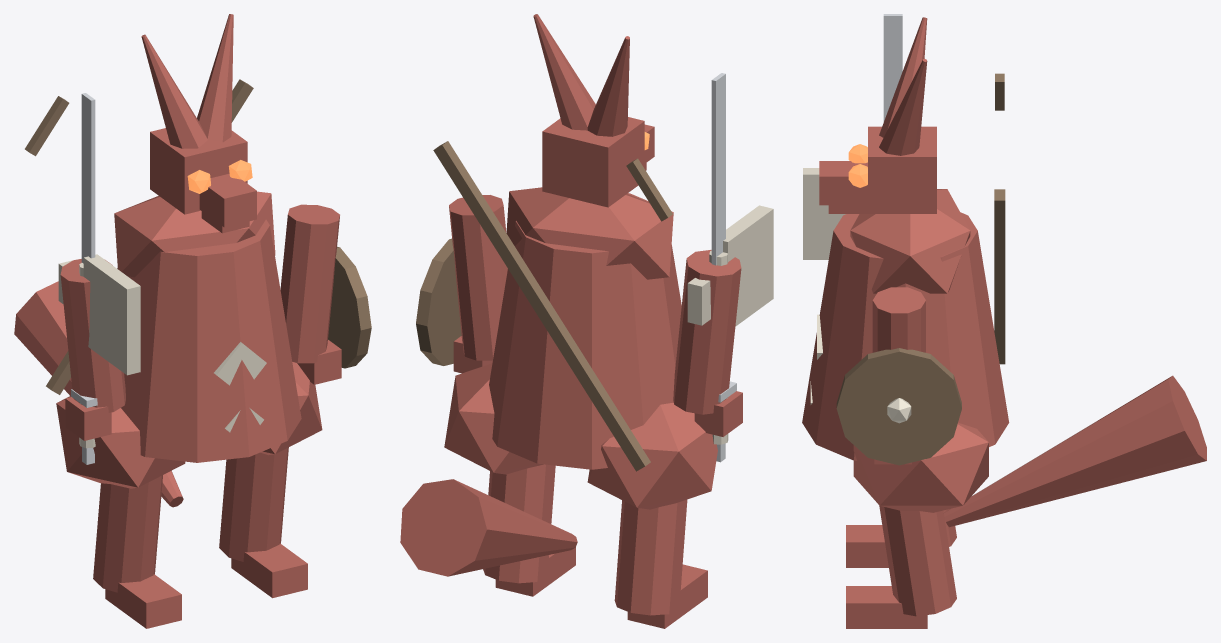
Rendered from boss_kobold.glb.
The picture shows the model from 3 angles, left to right: view 1: azimuth 30°, elevation 25°; view 2: azimuth 150°, elevation 25°; view 3: azimuth 270°, elevation 25°; orthographic projection. The views are drawn at different scales.
Parts seen in each view (by area): view 1: Body, Head, LegR, LegL, ArmL, ArmR, WeaponAxe, Tail, Buckler, WeaponNodachi, NodachiBack; view 2: Body, Head, Tail, ArmR, LegR, NodachiBack, ArmL, WeaponAxe, LegL, Buckler, WeaponNodachi; view 3: Body, Tail, Buckler, Head, LegL, ArmL, NodachiBack, WeaponAxe, LegR, WeaponNodachi.
Part boxes in pixels (<box>): Body: <box>56,191,322,488</box>; Head: <box>141,14,256,233</box>; LegR: <box>93,475,181,628</box>; LegL: <box>219,447,307,598</box>; ArmL: <box>280,204,341,384</box>; ArmR: <box>60,259,125,440</box>; WeaponAxe: <box>58,254,140,448</box>; Tail: <box>14,281,183,507</box>; Buckler: <box>328,246,371,368</box>; WeaponNodachi: <box>71,93,97,464</box>; NodachiBack: <box>25,79,253,394</box>; Body: <box>444,187,717,509</box>; Head: <box>533,14,654,207</box>; Tail: <box>400,479,577,576</box>; ArmR: <box>673,250,742,436</box>; LegR: <box>614,499,707,628</box>; NodachiBack: <box>433,141,672,471</box>; ArmL: <box>449,195,507,373</box>; WeaponAxe: <box>687,205,773,444</box>; LegL: <box>483,464,575,596</box>; Buckler: <box>416,238,461,365</box>; WeaponNodachi: <box>711,73,736,462</box>; Body: <box>802,189,1009,512</box>; Tail: <box>944,375,1206,527</box>; Buckler: <box>836,348,961,465</box>; Head: <box>819,17,936,213</box>; LegL: <box>846,505,956,628</box>; ArmL: <box>872,287,925,464</box>; NodachiBack: <box>994,73,1005,364</box>; WeaponAxe: <box>803,168,845,259</box>; LegR: <box>846,509,956,567</box>; WeaponNodachi: <box>883,14,902,121</box>.
Bounding box in the file's own units: 2.12 × 3.88 × 2.58.
